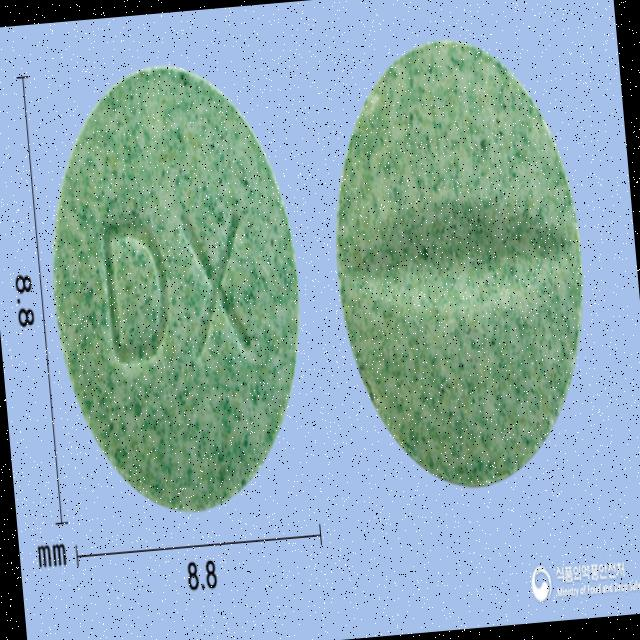Doxymycin N: (35, 54, 318, 522)
